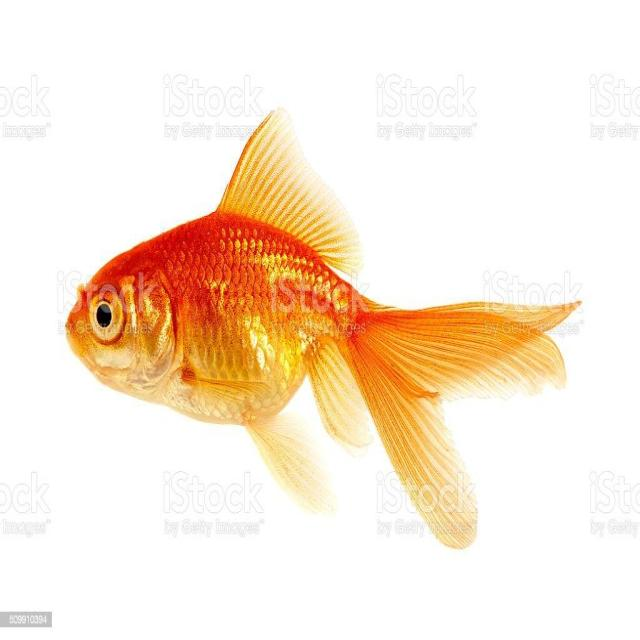GoldFish: (59, 105, 585, 549)
